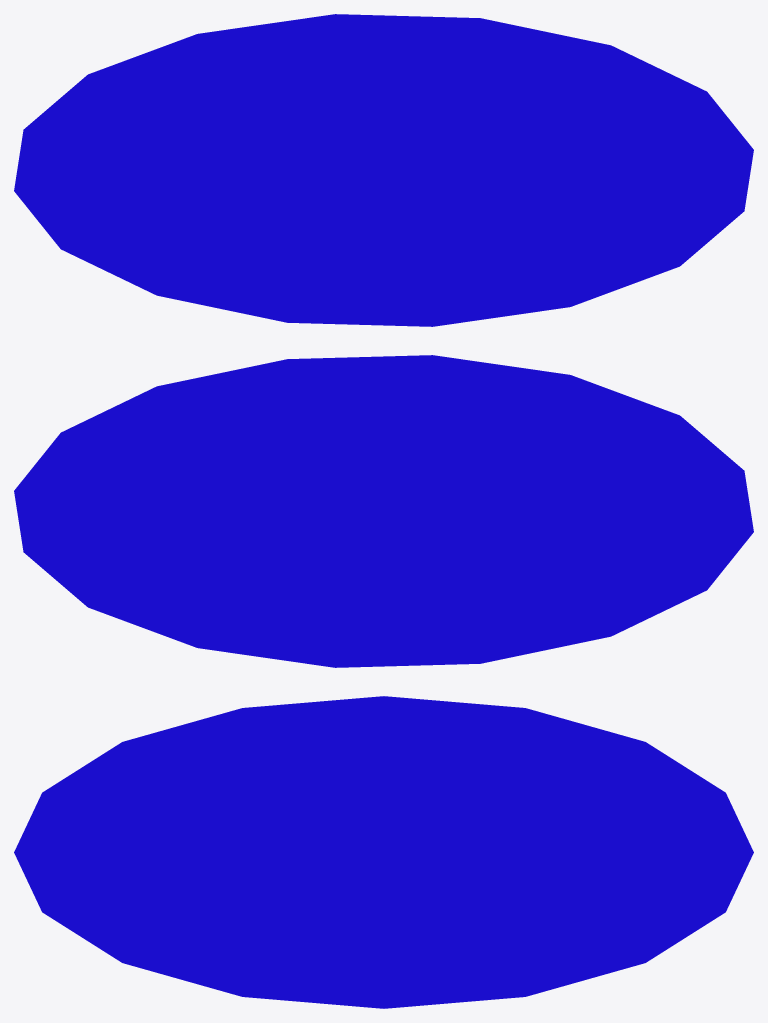
File: heat_circle.glb
3 renders of one model, top to bottom at view 1: azimuth 30°, elevation 25°; view 2: azimuth 150°, elevation 25°; view 3: azimuth 270°, elevation 25°, orthographic.
Parts seen in each view (by area): view 1: Heatzzone; view 2: Heatzzone; view 3: Heatzzone.
Part boxes in pixels (bbox=[...]): Heatzzone: bbox=[14, 14, 753, 326]; Heatzzone: bbox=[14, 355, 753, 667]; Heatzzone: bbox=[14, 696, 753, 1008].
Size of the model in its own units: 2 by 0 by 2.
